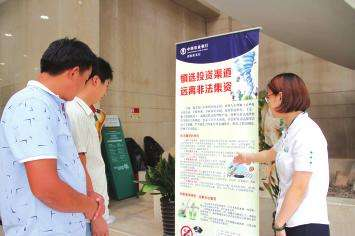bill: (175, 28, 259, 236)
